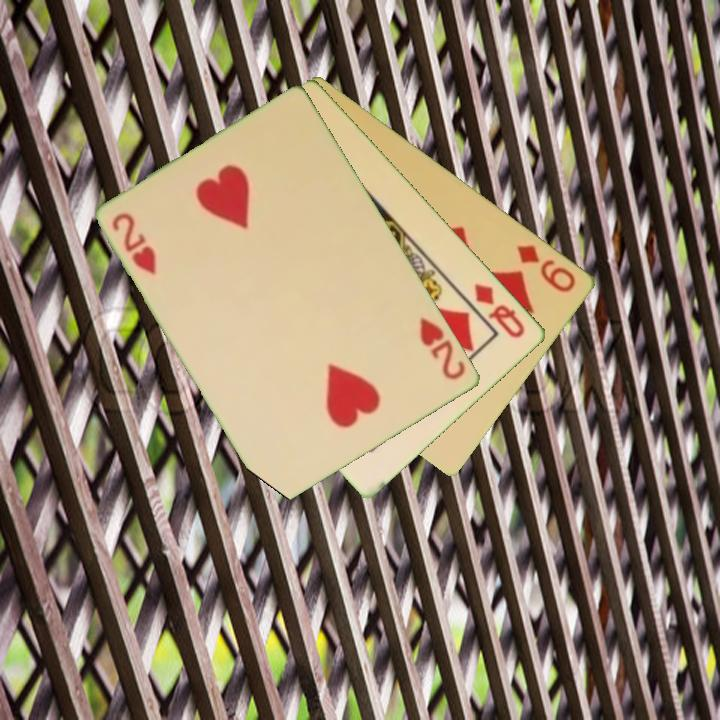2h: (416, 314, 469, 383), (109, 209, 160, 278)
9d: (514, 241, 580, 296)
Qd: (471, 279, 529, 342)
